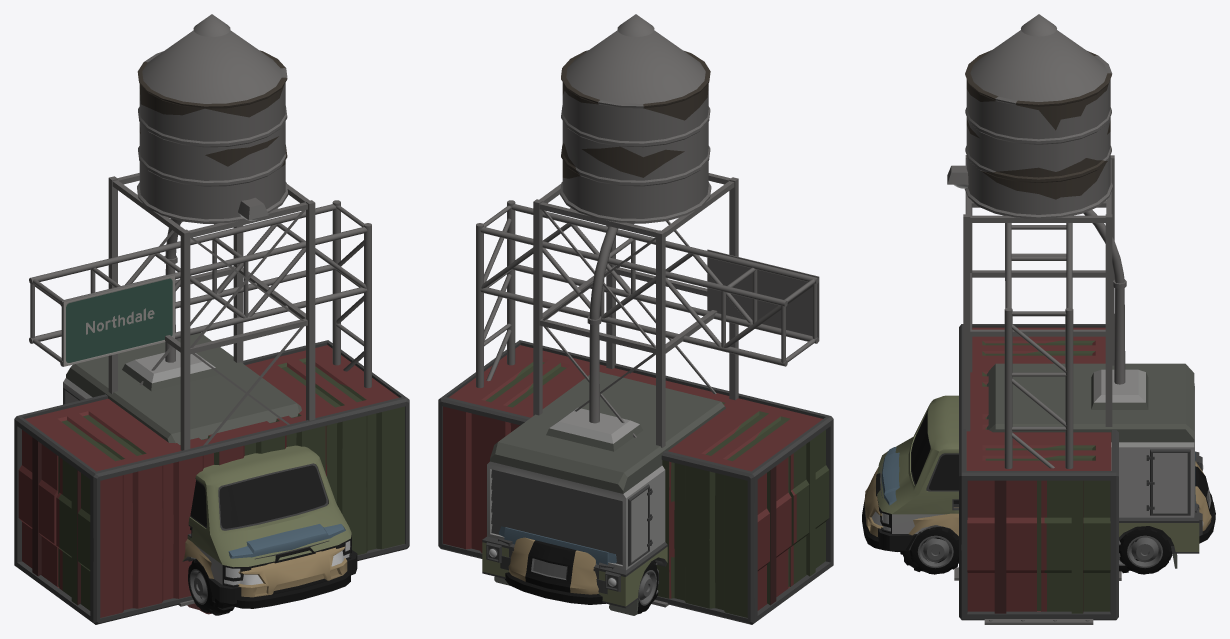
The model's file is urban.glb.
The picture shows the model from 3 angles, left to right: view 1: azimuth 30°, elevation 25°; view 2: azimuth 150°, elevation 25°; view 3: azimuth 270°, elevation 25°; orthographic projection. The views are drawn at different scales.
Parts seen in each view (by area): view 1: WaterTower, Container_Red, Vehicle_Truck, Container_Green, TownSign, Vehicle_Sports, Vehicle_Pickup, StreetLights; view 2: WaterTower, Vehicle_Truck, Container_Red, Container_Green, TownSign, Vehicle_Sports, StreetLights, Vehicle_Pickup; view 3: WaterTower, Vehicle_Truck, Container_Red, Container_Green, TownSign, Vehicle_Sports, StreetLights, Vehicle_Pickup.
Part boxes in pixels (x1,y1,x2,y2): WaterTower: [108, 14, 315, 606]; Container_Red: [14, 342, 399, 624]; Vehicle_Truck: [63, 333, 357, 604]; Container_Green: [17, 340, 409, 622]; TownSign: [29, 200, 371, 387]; Vehicle_Sports: [182, 539, 350, 612]; Vehicle_Pickup: [194, 524, 345, 615]; StreetLights: [164, 197, 268, 362]; WaterTower: [533, 14, 738, 607]; Vehicle_Truck: [482, 372, 725, 615]; Container_Red: [438, 342, 832, 622]; Container_Green: [441, 340, 833, 624]; TownSign: [476, 200, 819, 387]; Vehicle_Sports: [505, 537, 658, 613]; StreetLights: [587, 226, 618, 423]; Vehicle_Pickup: [498, 526, 658, 601]; WaterTower: [954, 14, 1121, 580]; Vehicle_Truck: [877, 363, 1203, 569]; Container_Red: [959, 324, 1118, 620]; Container_Green: [959, 324, 1116, 620]; TownSign: [984, 223, 1093, 624]; Vehicle_Sports: [862, 461, 1215, 574]; StreetLights: [947, 165, 1126, 384]; Vehicle_Pickup: [880, 447, 1198, 573].
Bounding box in the file's own units: 5.98 × 9.38 × 5.66.
